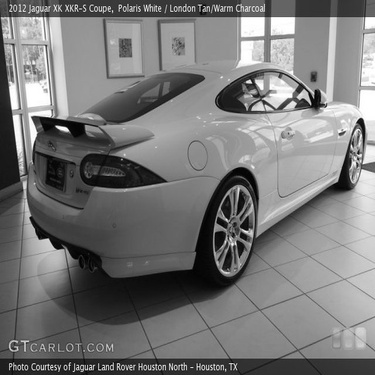car: (17, 52, 368, 290)
